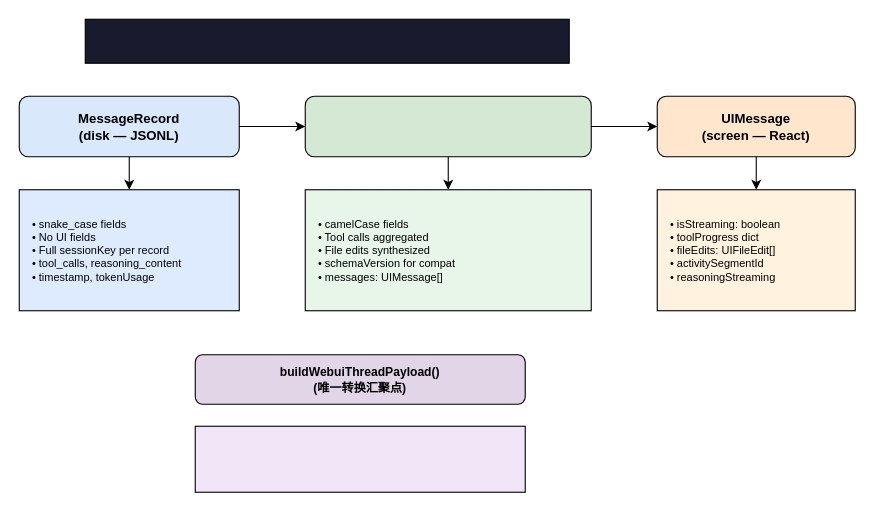
The diagram is 875 pixels wide and 512 high, and some of its shapes have lost their labels. Each missing label, with the box of its shape:
snake_case→camelCase 聚合 tool 调用 (4行→1条trace) 合成 FileEditEvent[]: (194, 425, 525, 492)
WebuiThreadPersistedPayload (network — HTTP/WS): (304, 95, 591, 157)
消息的三张面孔 — 同一消息，三种形态: (84, 18, 569, 63)
